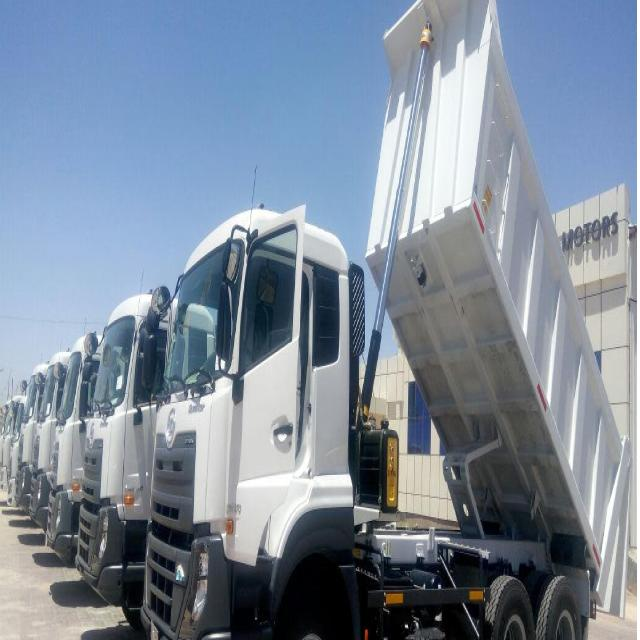dump_truck: (149, 2, 628, 638), (82, 297, 156, 599), (37, 293, 85, 581), (4, 343, 38, 512)
